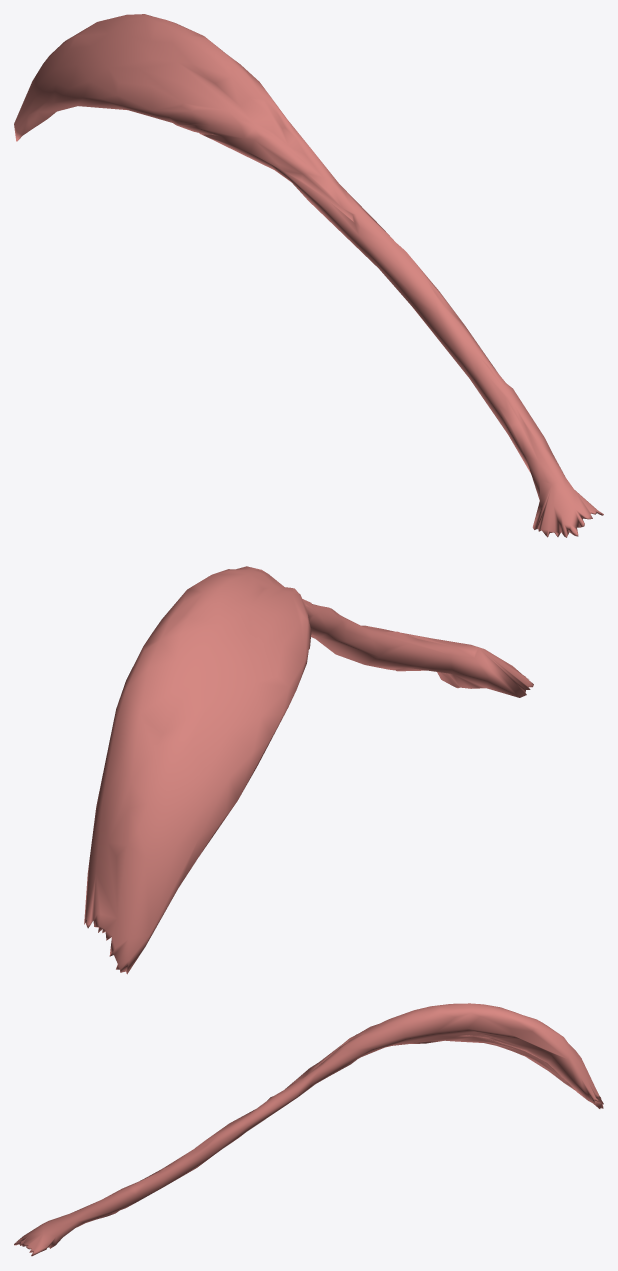
3 renders of one model, top to bottom at view 1: azimuth 30°, elevation 25°; view 2: azimuth 150°, elevation 25°; view 3: azimuth 270°, elevation 25°, orthographic. The views are drawn at different scales.
Parts seen in each view (by area): view 1: ZA_7b98e95b56f2cece; view 2: ZA_7b98e95b56f2cece; view 3: ZA_7b98e95b56f2cece.
Part boxes in pixels (box(x1,y1,x2,y2)): ZA_7b98e95b56f2cece: box(14, 14, 603, 537); ZA_7b98e95b56f2cece: box(84, 566, 533, 974); ZA_7b98e95b56f2cece: box(14, 1003, 603, 1256).
Size of the model in its own units: 0.0339 by 0.0479 by 0.1218.
